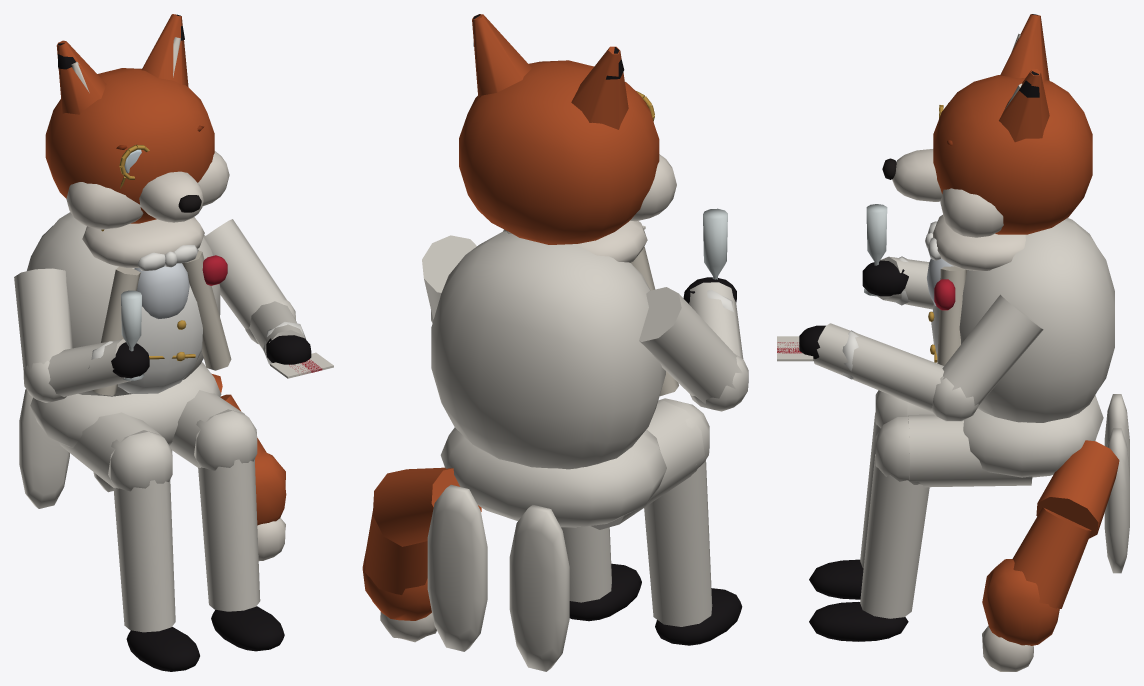
The model's file is baron.glb.
3 renders of one model, left to right at view 1: azimuth 30°, elevation 25°; view 2: azimuth 150°, elevation 25°; view 3: azimuth 270°, elevation 25°, orthographic. The views are drawn at different scales.
Parts seen in each view (by area): view 1: Baron_Body, Baron_Head, Baron_ArmR, Baron_ArmL, Baron_Tail; view 2: Baron_Body, Baron_Head, Baron_ArmR, Baron_Tail, Baron_ArmL; view 3: Baron_Body, Baron_Head, Baron_Tail, Baron_ArmL, Baron_ArmR.
Part boxes in pixels (x1,y1,x2,y2): Baron_Body: (19, 212, 284, 671); Baron_Head: (45, 14, 229, 231); Baron_ArmR: (14, 268, 149, 402); Baron_ArmL: (204, 219, 333, 378); Baron_Tail: (211, 373, 286, 561); Baron_Body: (427, 221, 742, 671); Baron_Head: (459, 14, 676, 244); Baron_ArmR: (639, 208, 748, 411); Baron_Tail: (362, 467, 481, 642); Baron_ArmL: (422, 225, 645, 322); Baron_Body: (809, 215, 1129, 641); Baron_Head: (882, 14, 1092, 237); Baron_Tail: (982, 440, 1119, 671); Baron_ArmL: (777, 294, 1043, 421); Baron_ArmR: (862, 204, 933, 309).
Size of the model in its own units: 0.7415 by 1.39 by 0.7778.
